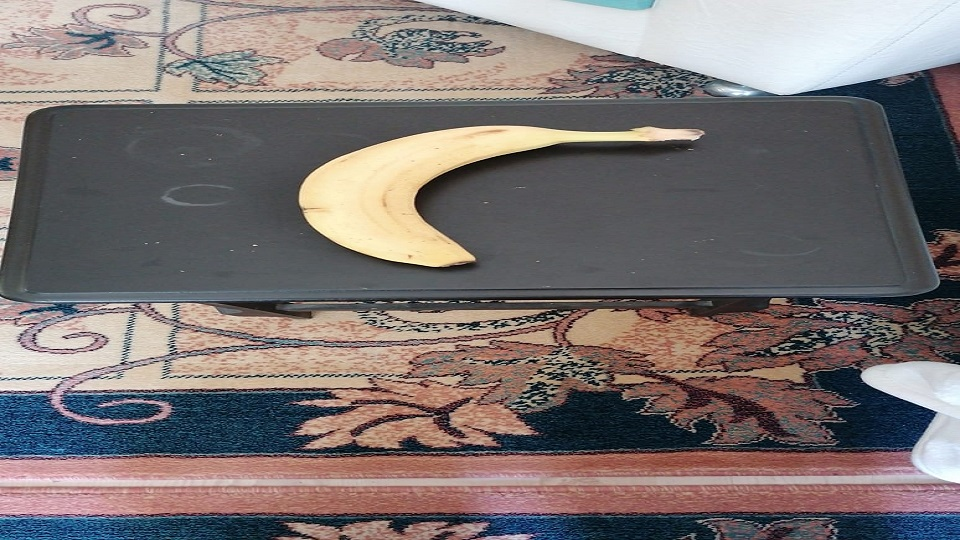muz: (296, 123, 705, 270)
